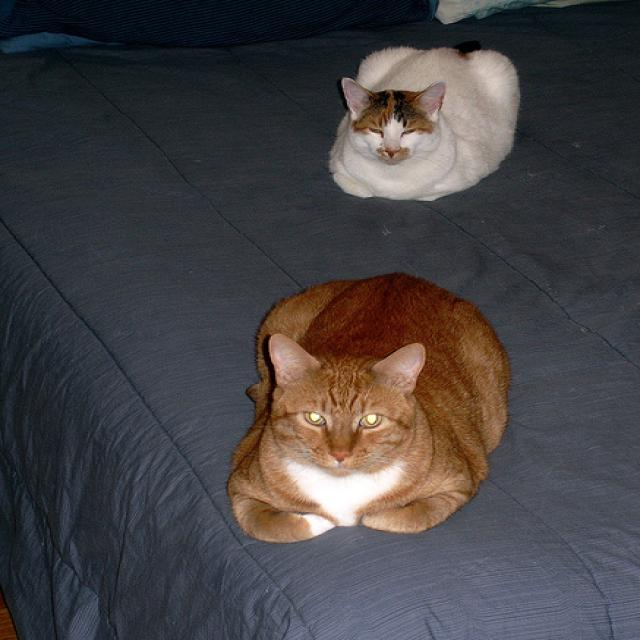cat: (224, 270, 512, 541), (326, 43, 524, 203)
